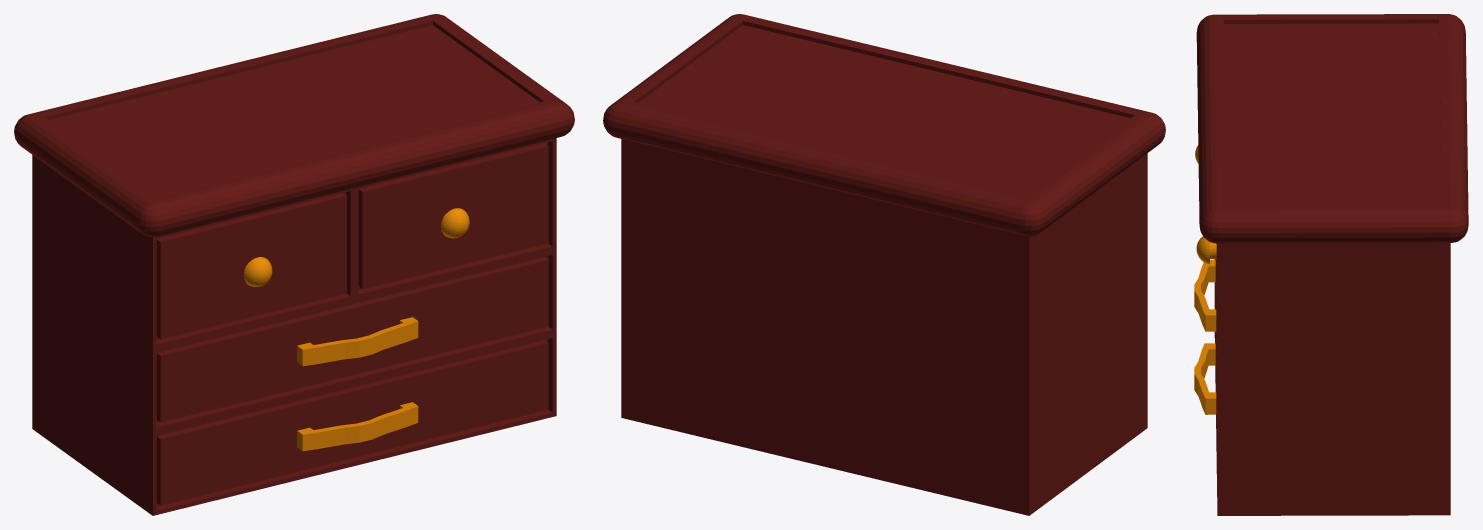
File: level13.fbx
3 renders of one model, left to right at view 1: azimuth 30°, elevation 25°; view 2: azimuth 150°, elevation 25°; view 3: azimuth 270°, elevation 25°, orthographic. The views are drawn at different scales.
Parts seen in each view (by area): view 1: polySurface21; view 2: polySurface21; view 3: polySurface21.
Part boxes in pixels (<box>): polySurface21: <box>14,14,574,515</box>; polySurface21: <box>603,14,1165,515</box>; polySurface21: <box>1194,14,1468,515</box>.
Size of the model in its own units: 3.62 by 2.47 by 2.
